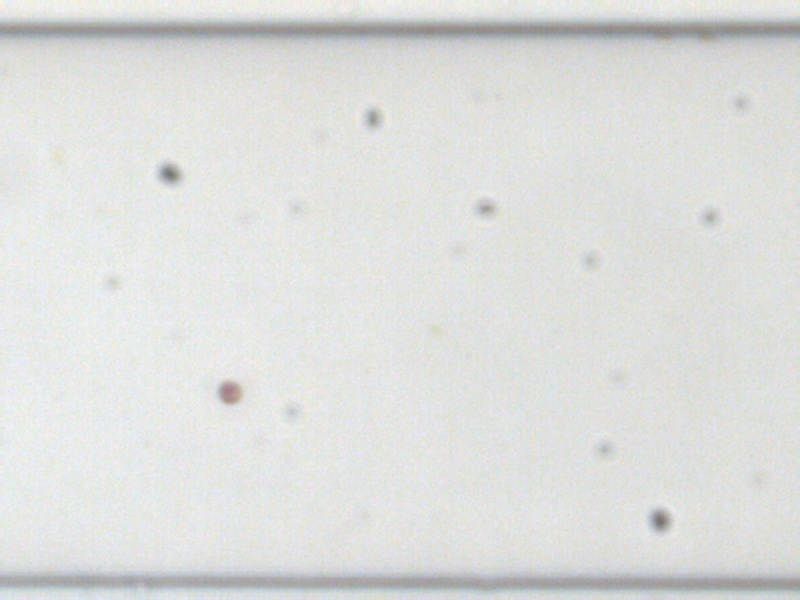Porphyridium: (216, 378, 243, 404)
